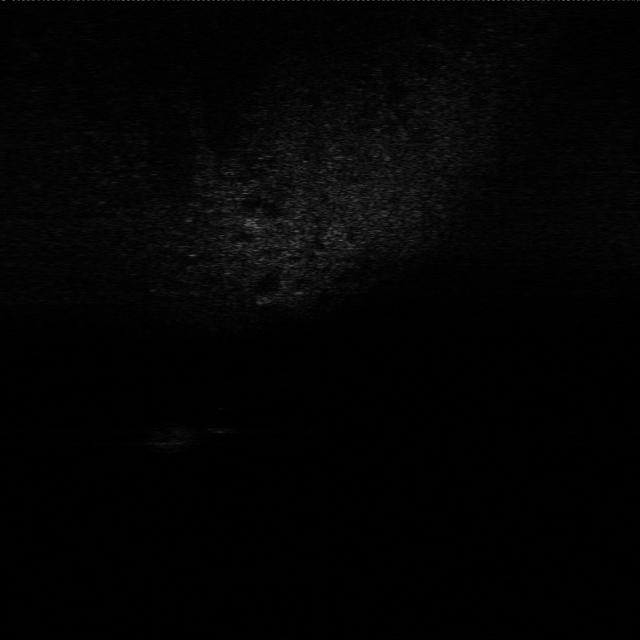ball: (198, 404, 237, 435)
circle cage: (143, 424, 196, 448)
